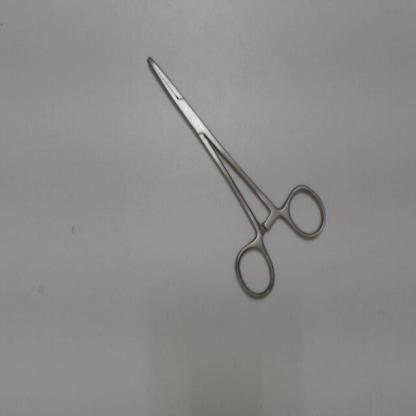Mayo Needle Holder: (136, 40, 336, 308)
